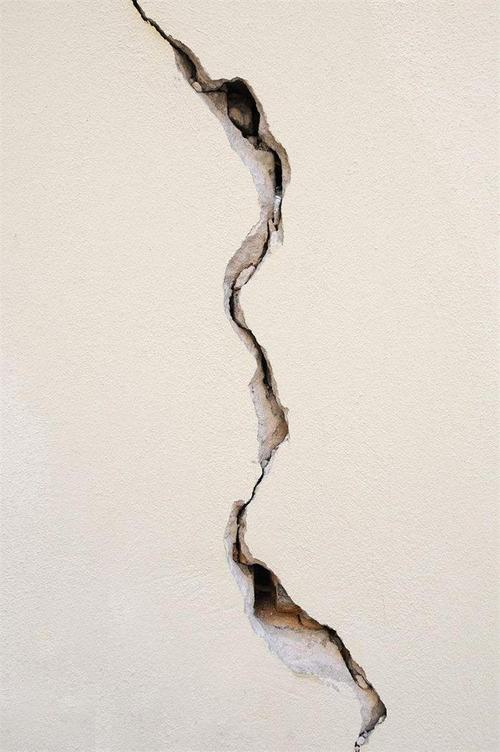Crack: (133, 1, 388, 752)
